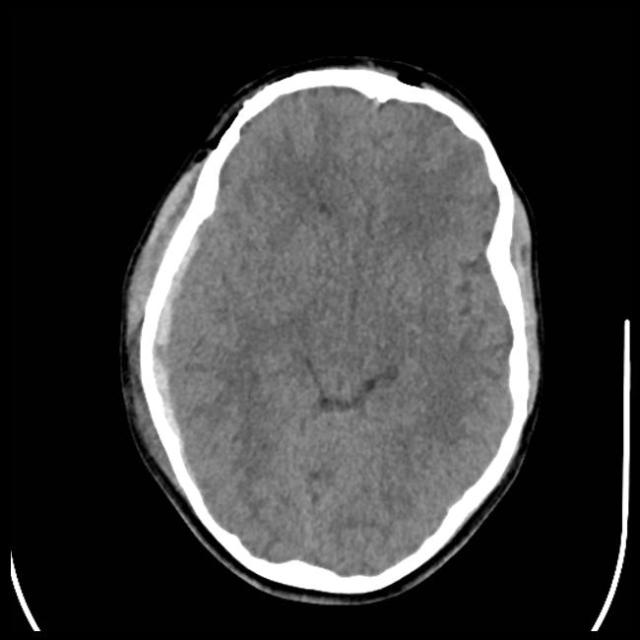lesion: (120, 60, 545, 599)
